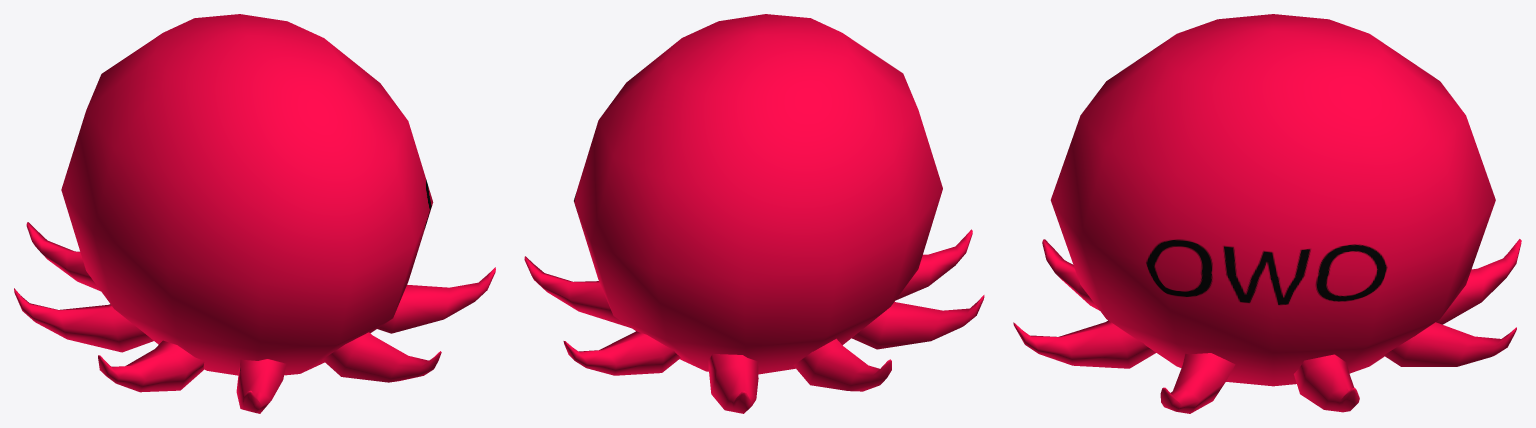
Rendered from Octopus Blob OWO RED.fbx.
3 views of the same model, side by side, from view 1: azimuth 30°, elevation 25°; view 2: azimuth 150°, elevation 25°; view 3: azimuth 270°, elevation 25° (orthographic). The views are drawn at different scales.
Parts seen in each view (by area): view 1: Cylinder006; view 2: Cylinder006; view 3: Cylinder006.
Boxes of the visible parts, x1,y1,x2,y2 form: Cylinder006: (14,14,495,413); Cylinder006: (524,14,984,413); Cylinder006: (1013,14,1521,413).
Bounding box in the file's own units: 17.84 × 13.75 × 19.36.
Materials: 1 (1 with a texture image).
